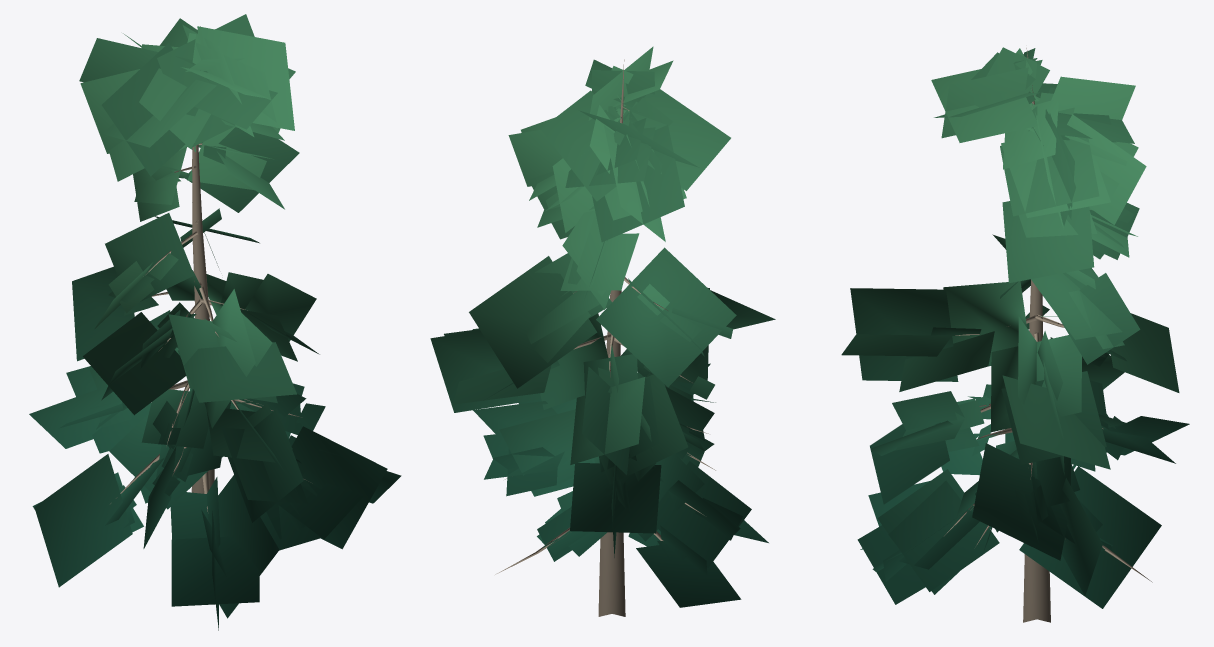
The model's file is pine-a.glb.
3 renders of one model, left to right at view 1: azimuth 30°, elevation 25°; view 2: azimuth 150°, elevation 25°; view 3: azimuth 270°, elevation 25°, orthographic. The views are drawn at different scales.
Visible parts, largest first — view 1: pine-a; view 2: pine-a; view 3: pine-a.
Boxes of the visible parts, left/top/right/bottom form: pine-a: left=29, top=14, right=401, bottom=630; pine-a: left=430, top=46, right=775, bottom=616; pine-a: left=841, top=47, right=1189, bottom=622.
Size of the model in its own units: 7.29 by 11.5 by 6.43.
